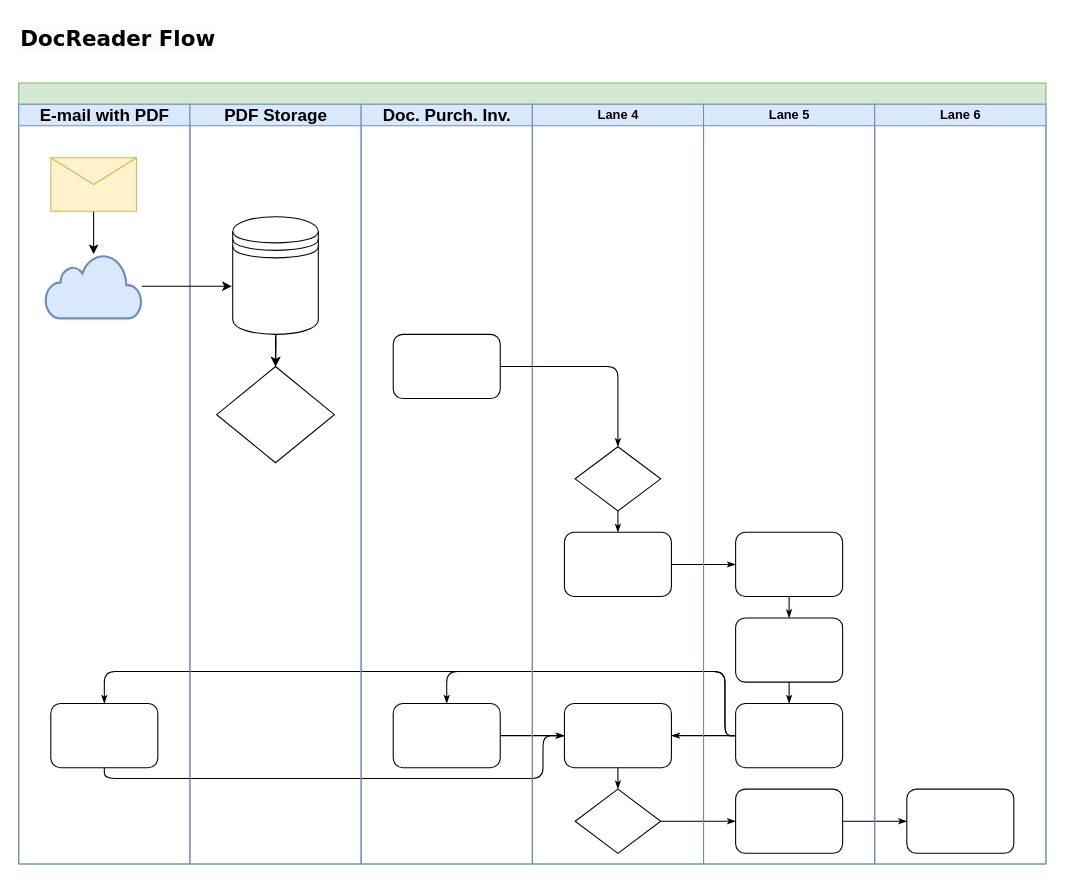
This 1065x883 diagram has some shape labels left out. Here are the shapes that lost their labels. From the top down, the centre of each, then its label:
the point at 93,286: Read PDF
the point at 275,275: PDF & json
the point at 275,414: Invoice?
